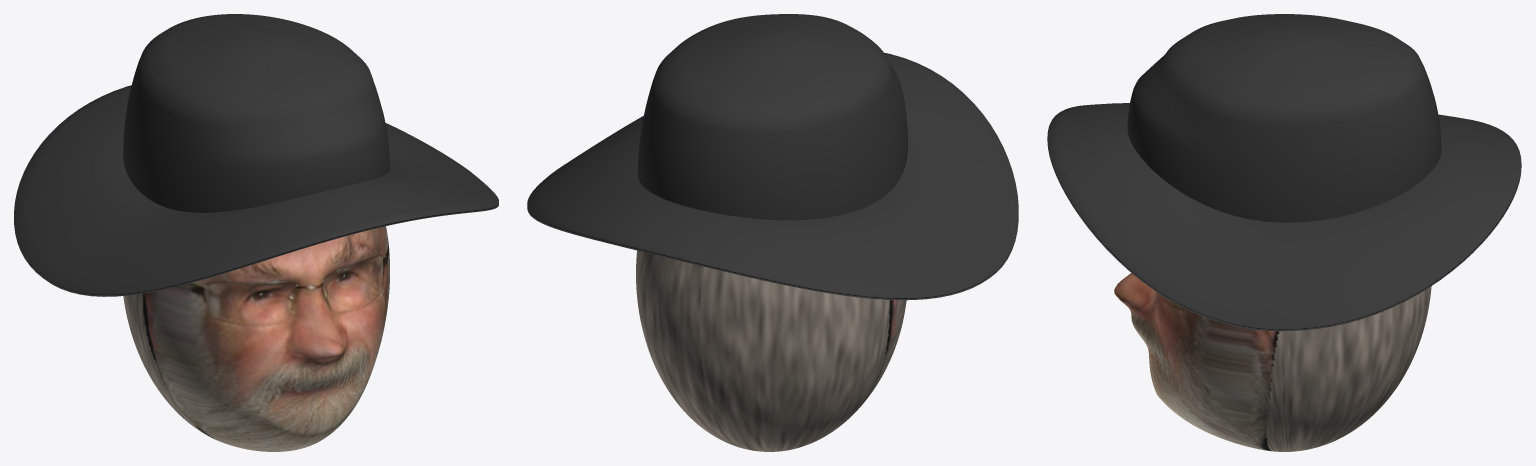
3 views of the same model, side by side, from view 1: azimuth 30°, elevation 25°; view 2: azimuth 150°, elevation 25°; view 3: azimuth 270°, elevation 25° (orthographic). The views are drawn at different scales.
Parts seen in each view (by area): view 1: Hat, Face; view 2: Hat, Face; view 3: Hat, Face.
Part boxes in pixels (x1,y1,x2,y2): Hat: (14,14,498,296); Face: (123,226,389,451); Hat: (527,14,1018,300); Face: (636,250,906,451); Hat: (1047,14,1521,331); Face: (1114,273,1431,451).
Bounding box in the file's own units: 0.328 × 0.292 × 0.308.
2 materials, 1 textured.
